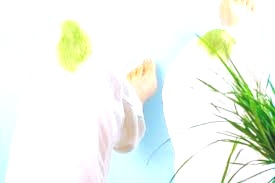earth: (57, 21, 92, 72), (204, 31, 232, 52)
